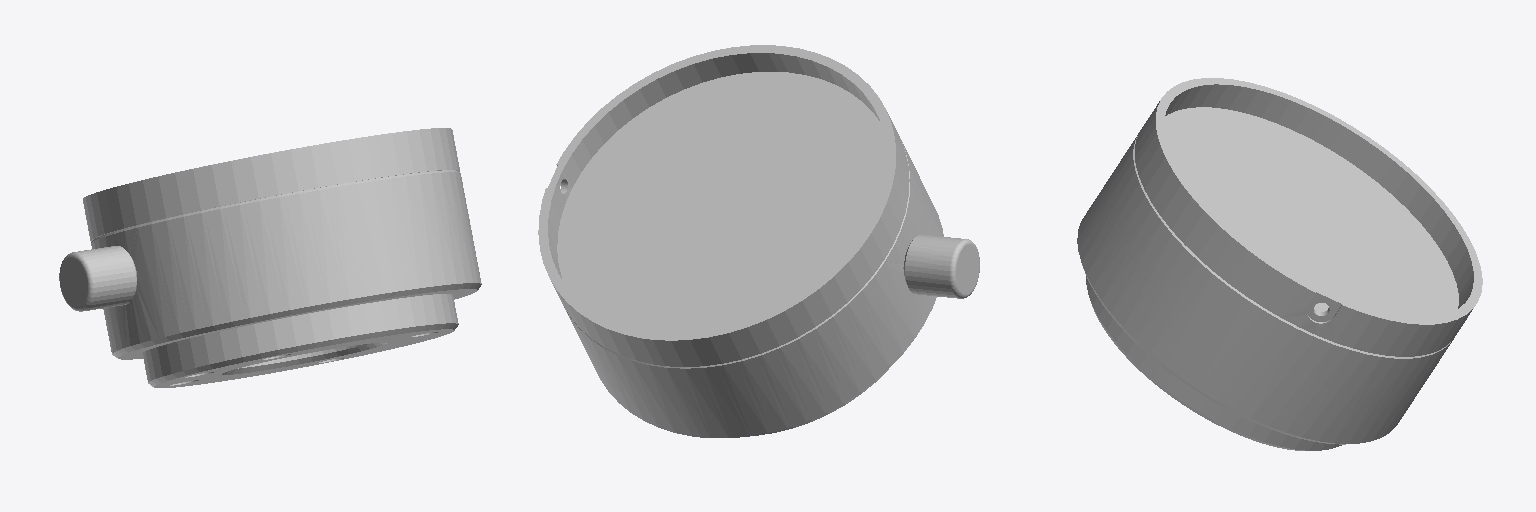
The model's file is AUBOMuñeca1.obj.
3 views of the same model, side by side, from view 1: azimuth 30°, elevation 25°; view 2: azimuth 150°, elevation 25°; view 3: azimuth 270°, elevation 25° (orthographic).
Parts seen in each view (by area): view 1: uploads_files_[number redacted]_i3-V2.007; view 2: uploads_files_[number redacted]_i3-V2.007; view 3: uploads_files_[number redacted]_i3-V2.007.
Part boxes in pixels (bbox=[...]): uploads_files_[number redacted]_i3-V2.007: bbox=[59, 128, 481, 387]; uploads_files_[number redacted]_i3-V2.007: bbox=[538, 45, 979, 437]; uploads_files_[number redacted]_i3-V2.007: bbox=[1077, 78, 1482, 450].
Size of the model in its own units: 44.54 by 34.1 by 40.38.